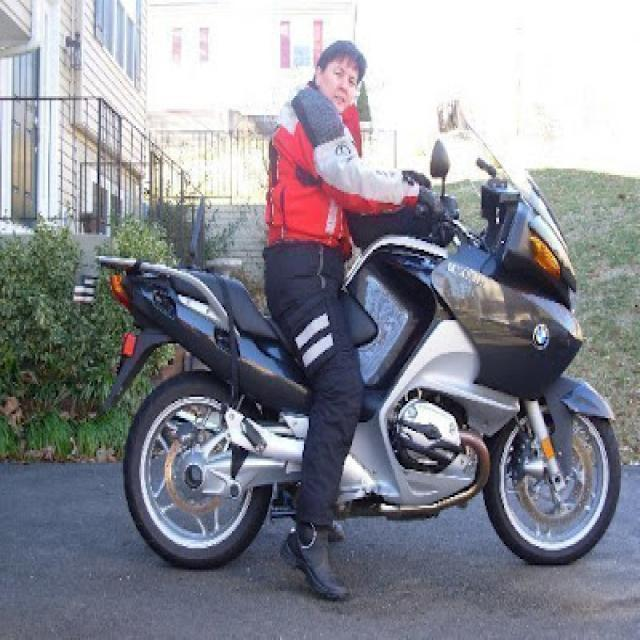No helmet: (297, 37, 372, 124)
